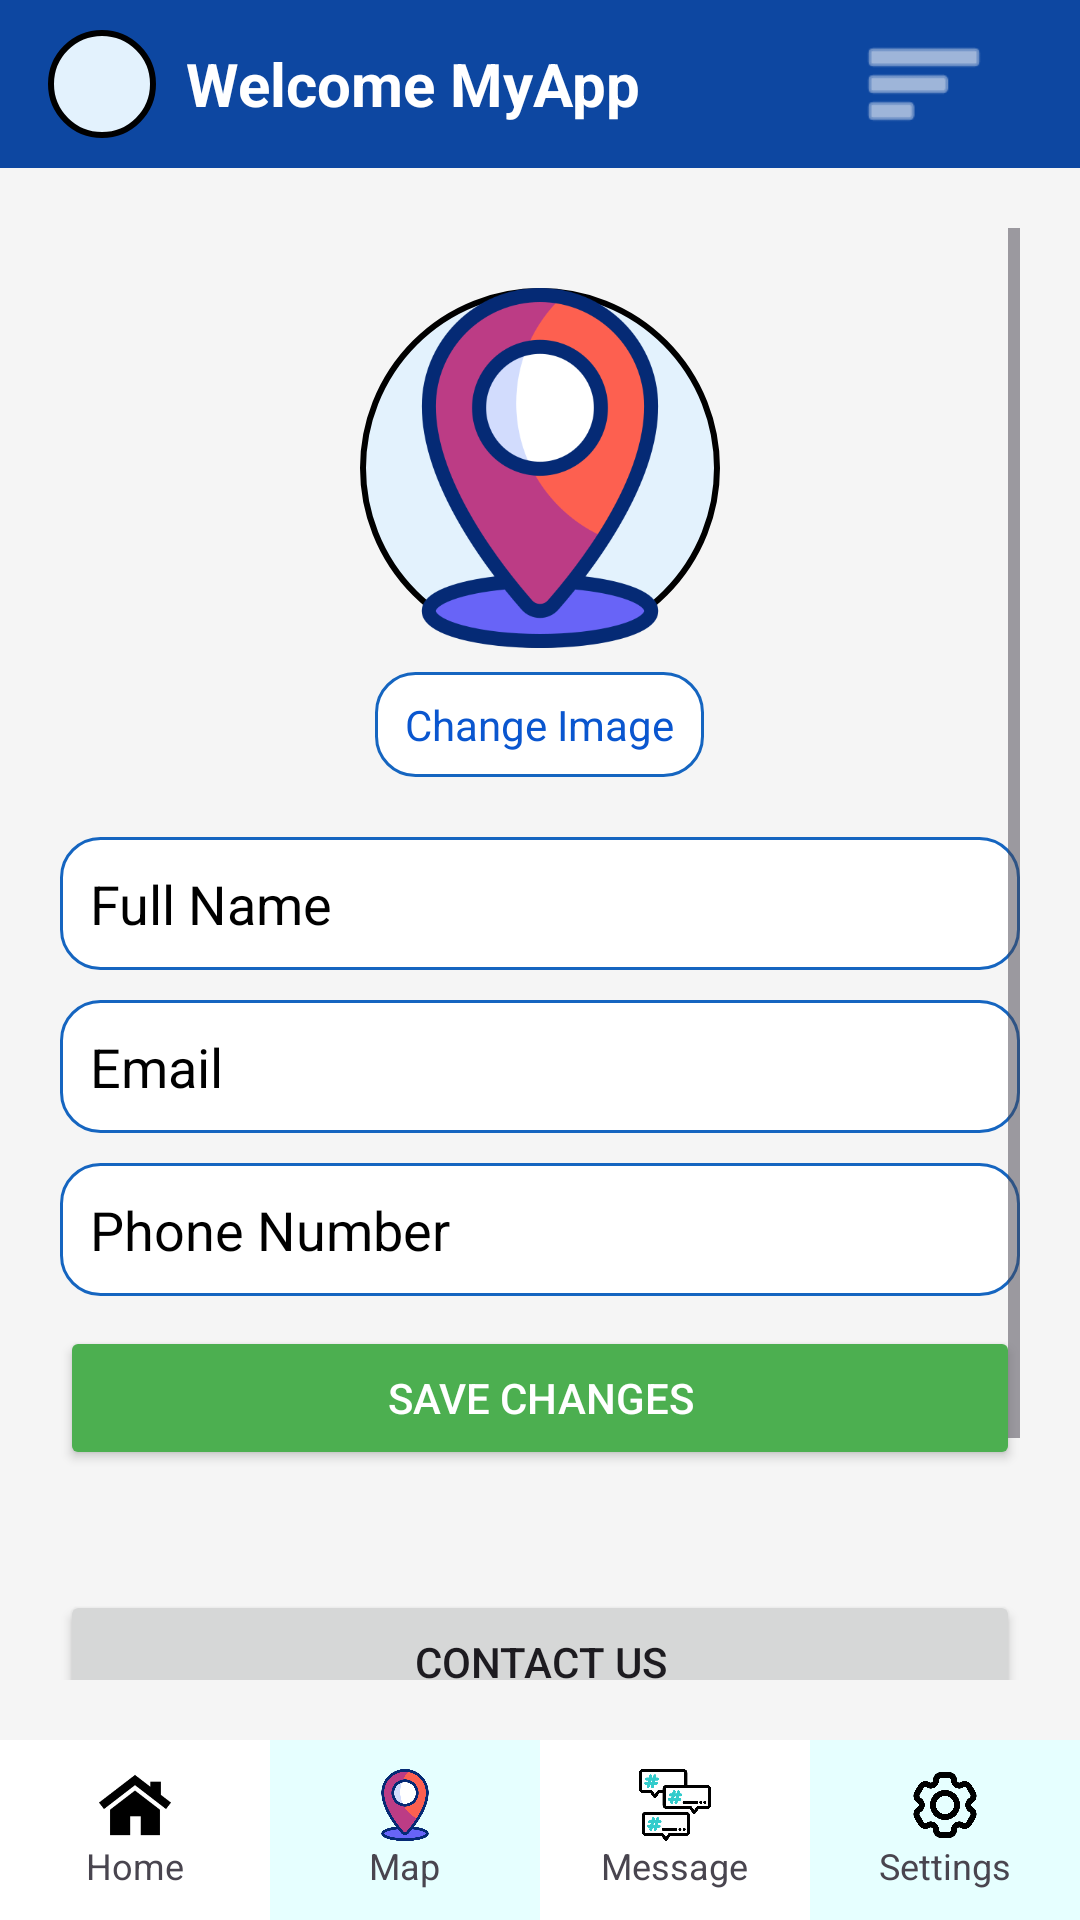

Icon click points for this 1080×1920 phone screenshot, format point (x, y):
sort by size: point (924, 84)
